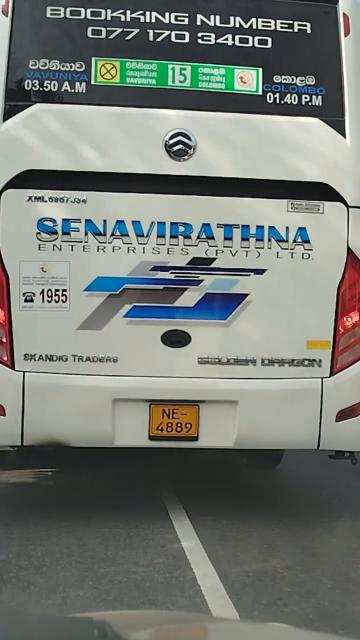number plate: (149, 398, 217, 441)
